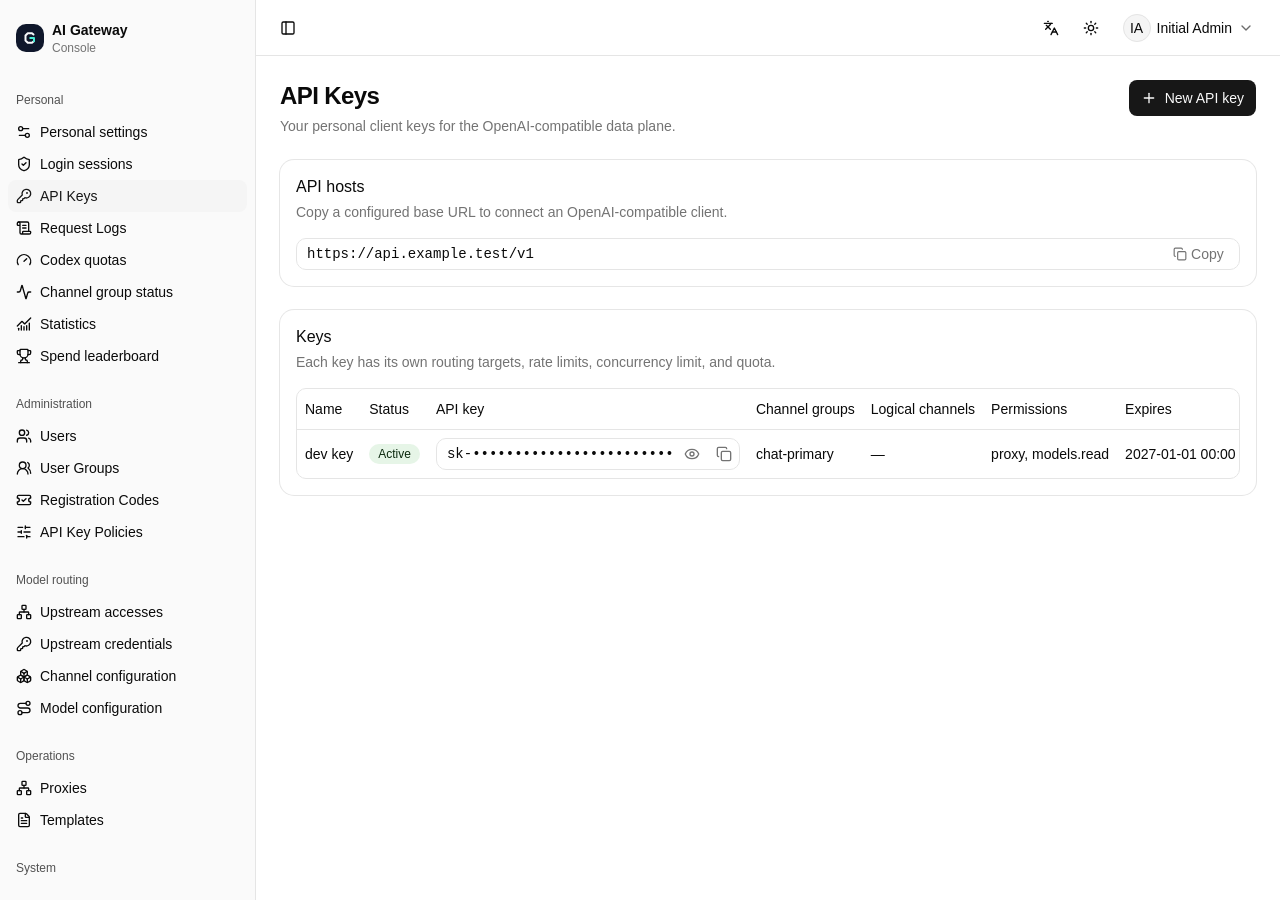
Test case: ApiKeysPage › explains when a default API key policy is missing
This screenshot has width=1280, height=900.
Click the button "New API key" at (1192, 98), box [1129,80,1256,116]
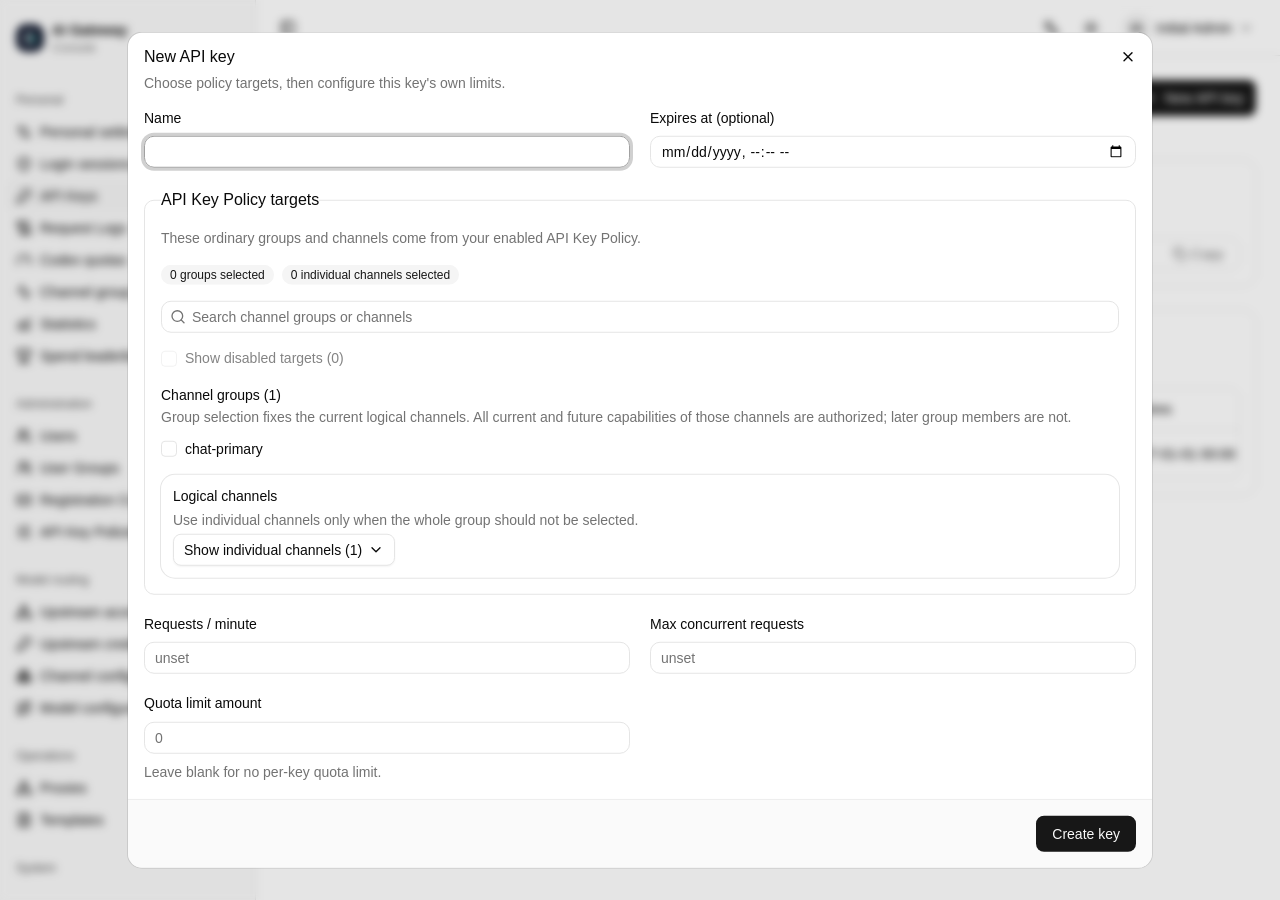
Type "policy-required" into the field labelled "Name" at (387, 152), box [144,136,630,168]
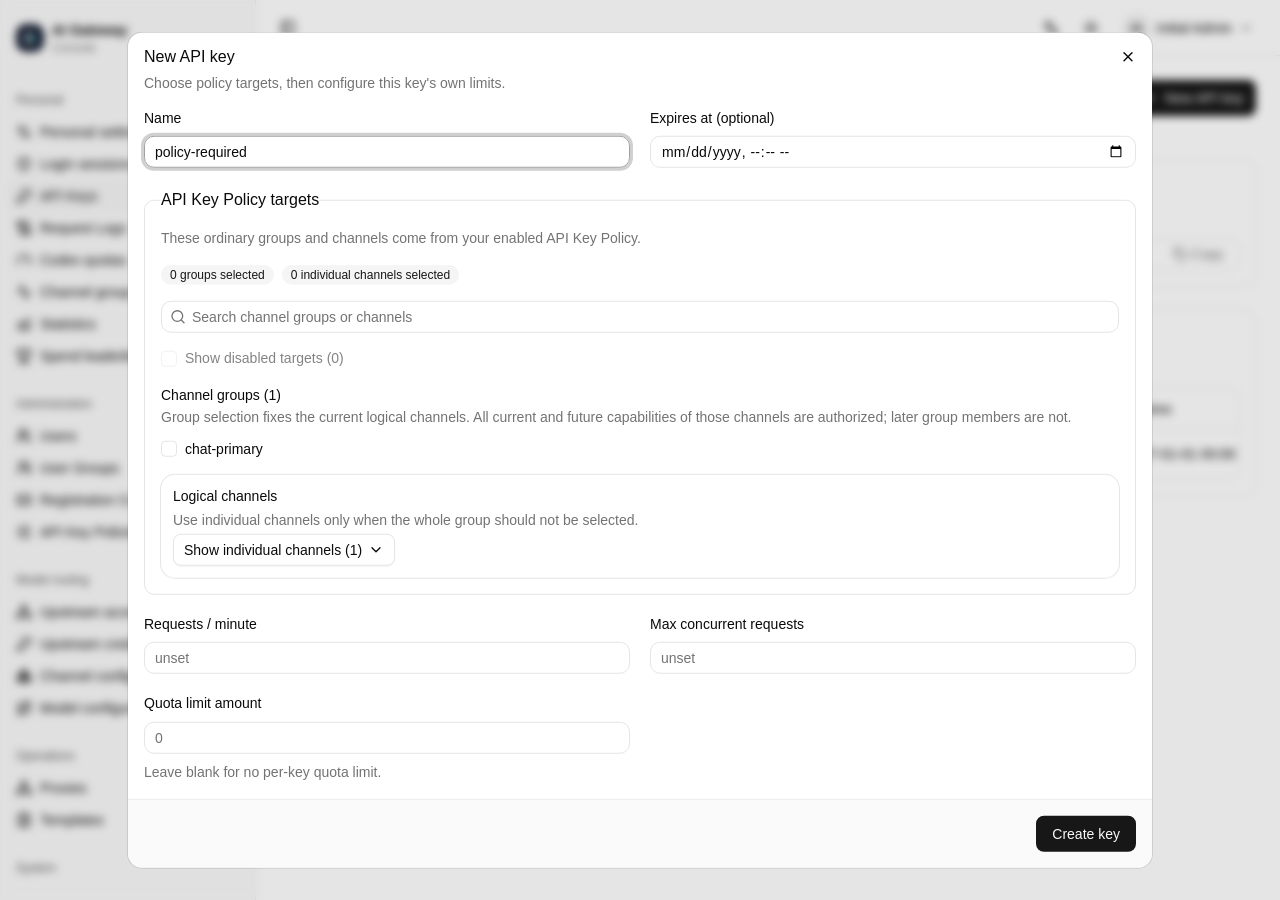
Click the checkbox named "chat-primary" at (169, 448), box [161,440,177,456]
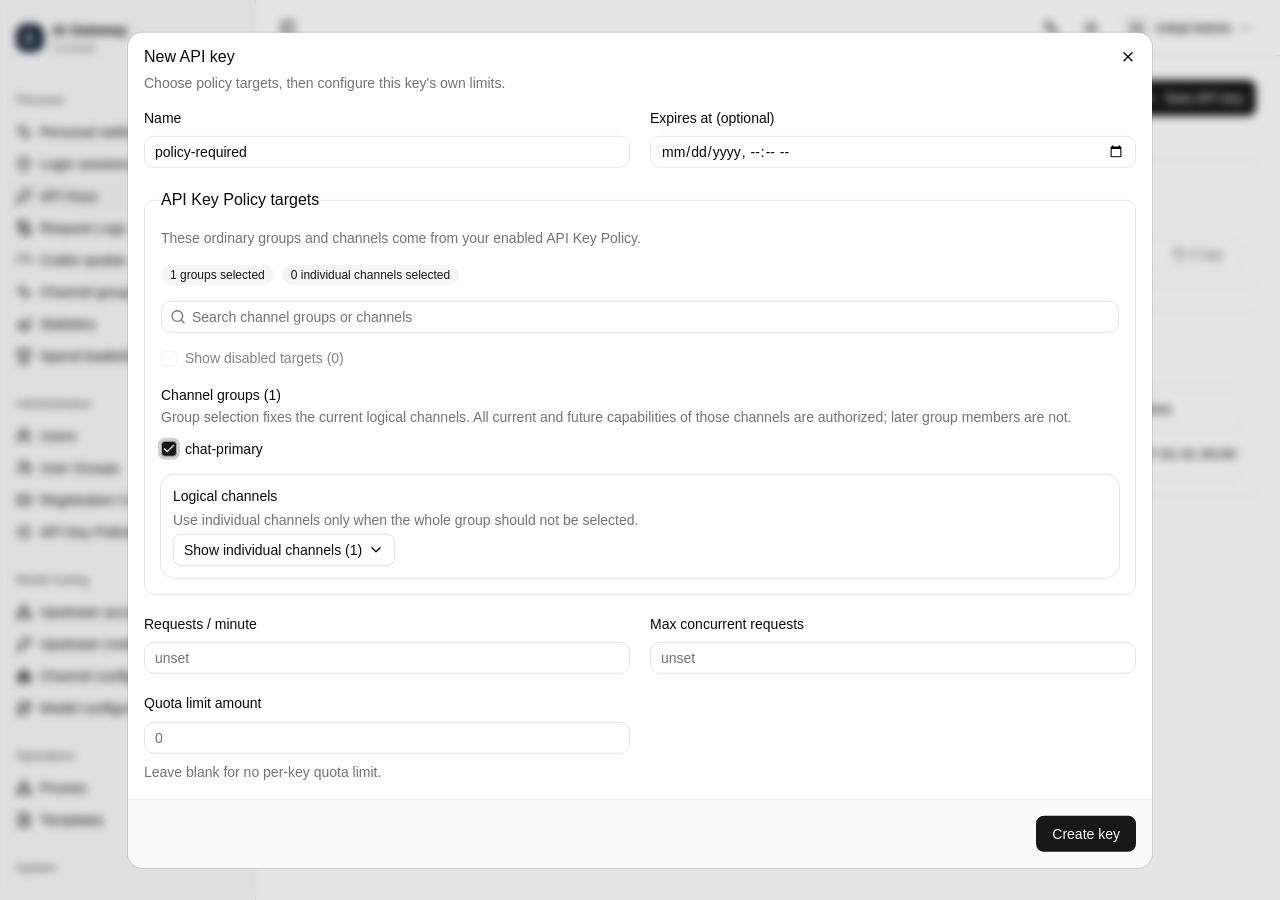
Click the button "Create key" at (1086, 833), box [1036,815,1136,851]
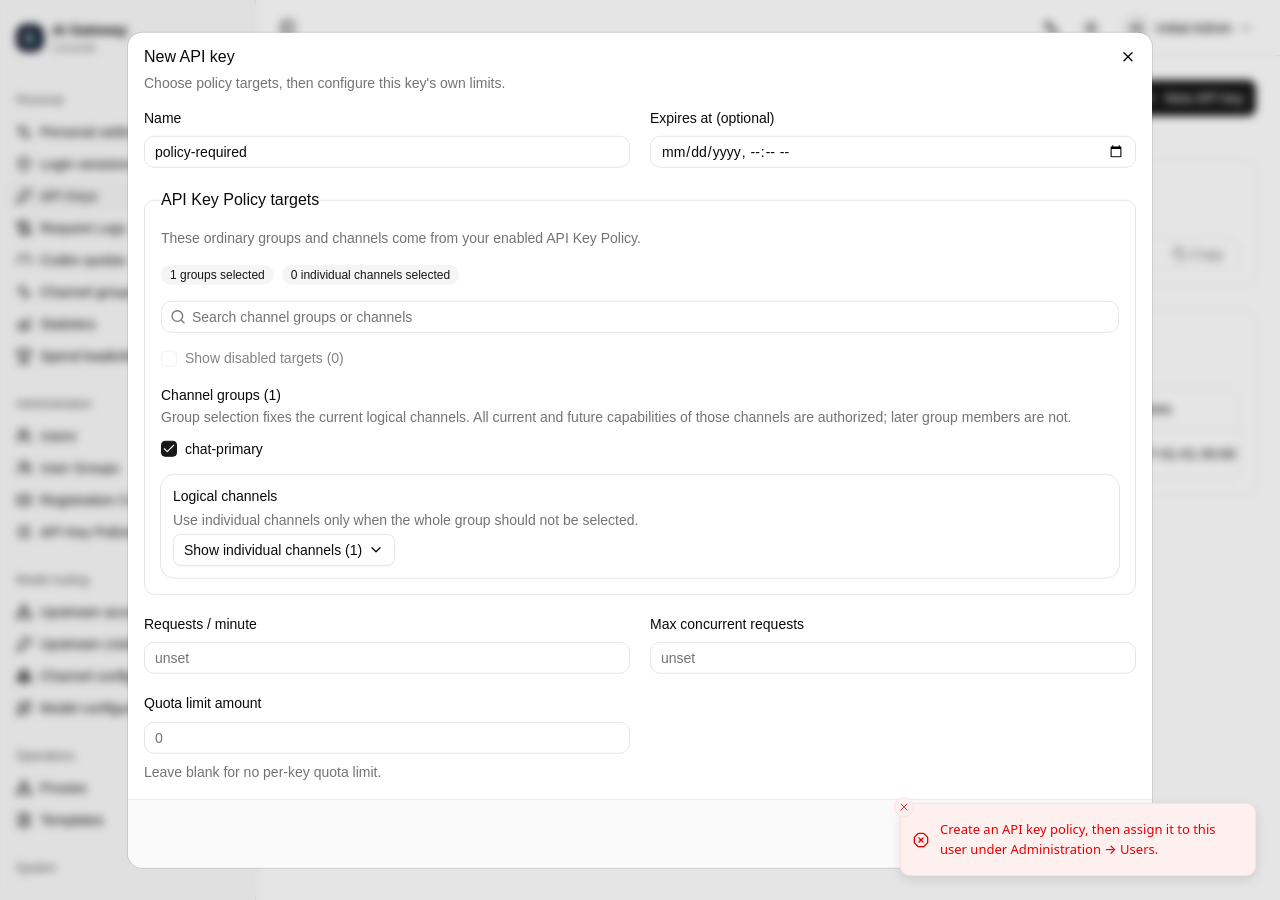
expect the text "Create an API key policy, then assign it" is shown: met, box [940,820,1216,858]
